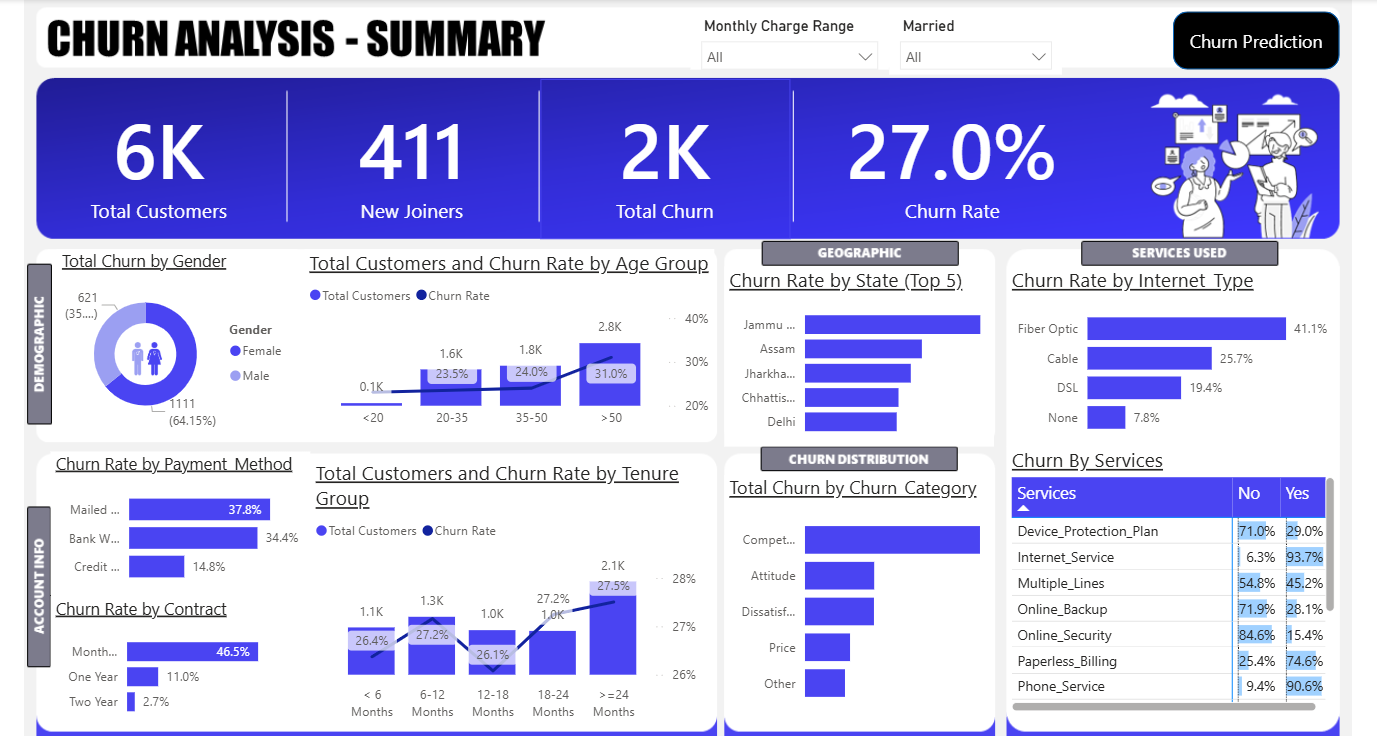

The dashboard page shown, as its layout file describes it:
{"tool":"powerbi","page":{"name":"Summary","canvas":[1340,719],"ordinal":0},"visuals":[{"type":"donutChart","fields":{"Category":["prod_Churn.Gender"],"Y":["tbl_Measures.Total Churn"]},"box":[62,240.9,232.3,181.2],"z":0},{"type":"image","box":[127.7,324.8,41.4,41.4],"z":1000},{"type":"lineStackedColumnComboChart","fields":{"Category":["Mapping_AgeGrp.Age Group"],"Y":["tbl_Measures.Total Customers"],"Y2":["tbl_Measures.Churn Rate"]},"box":[300.5,240.9,395.3,181.2],"z":2000},{"type":"clusteredBarChart","fields":{"Category":["prod_Churn.Payment_Method"],"Y":["tbl_Measures.Churn Rate"]},"box":[56,436.7,250.6,138.7],"z":3000},{"type":"clusteredBarChart","fields":{"Category":["prod_Churn.Contract"],"Y":["tbl_Measures.Churn Rate"]},"box":[56,575.4,244.5,126.5],"z":4000},{"type":"lineStackedColumnComboChart","fields":{"Category":["Mapping_TenureGrp.Tenure Group"],"Y":["tbl_Measures.Total Customers"],"Y2":["tbl_Measures.Churn Rate"]},"box":[306.5,442.8,377.1,259.1],"z":5000},{"type":"clusteredBarChart","title":"Churn Rate by State (Top 5)","fields":{"Category":["prod_Churn.State"],"Y":["tbl_Measures.Churn Rate"]},"box":[704.3,257.9,260.3,173.9],"z":6000},{"type":"clusteredBarChart","fields":{"Category":["prod_Churn.Churn_Category"],"Y":["tbl_Measures.Total Churn"]},"box":[704.3,458.6,260.3,233.6],"z":7000},{"type":"clusteredBarChart","fields":{"Category":["prod_Churn.Internet_Type"],"Y":["tbl_Measures.Churn Rate"]},"box":[976.8,257.9,321.1,173.9],"z":8000},{"type":"pivotTable","title":"Churn  By Services","fields":{"Rows":["prod_Services.Services"],"Columns":["prod_Services.Status"],"Values":["Sum(prod_Services.Churn Status)"]},"box":[976.8,431.8,321.1,260.3],"z":9000},{"type":"slicer","fields":{"Values":["prod_Services.Monthly Charge Status"]},"box":[672.7,12.2,191,56],"z":10000},{"type":"slicer","fields":{"Values":["prod_Services.Married"]},"box":[863.7,12.2,166.6,60.8],"z":11000},{"type":"cardVisual","fields":{"Data":["tbl_Measures.New Joiners"]},"box":[281,76.6,246.9,154.5],"z":12000},{"type":"cardVisual","fields":{"Data":["tbl_Measures.Total Churn"]},"box":[527.9,76.6,240.9,154.5],"z":13000},{"type":"cardVisual","fields":{"Data":["tbl_Measures.Churn Rate"]},"box":[787,76.6,276.1,154.5],"z":14000},{"type":"cardVisual","fields":{"Data":["tbl_Measures.Total Customers"]},"box":[40.1,76.6,240.9,154.5],"z":15000},{"type":"shape","box":[1137.4,12.2,160.6,56],"z":15001}]}

Visuals, with their boxes in screenshot pixels (x1, y1, x2, y2), scaled from the page's 1340x719 canvas onto the 1377x736 screenshot:
donutChart - prod_Churn.Gender x tbl_Measures.Total Churn: bbox(64, 247, 302, 432)
image: bbox(131, 332, 174, 375)
lineStackedColumnComboChart - Mapping_AgeGrp.Age Group x tbl_Measures.Total Customers: bbox(309, 247, 715, 432)
clusteredBarChart - prod_Churn.Payment_Method x tbl_Measures.Churn Rate: bbox(58, 447, 315, 589)
clusteredBarChart - prod_Churn.Contract x tbl_Measures.Churn Rate: bbox(58, 589, 309, 718)
lineStackedColumnComboChart - Mapping_TenureGrp.Tenure Group x tbl_Measures.Total Customers: bbox(315, 453, 702, 718)
"Churn Rate by State (Top 5)" clusteredBarChart: bbox(724, 264, 991, 442)
clusteredBarChart - prod_Churn.Churn_Category x tbl_Measures.Total Churn: bbox(724, 469, 991, 709)
clusteredBarChart - prod_Churn.Internet_Type x tbl_Measures.Churn Rate: bbox(1004, 264, 1334, 442)
"Churn  By Services" pivotTable: bbox(1004, 442, 1334, 708)
slicer - prod_Services.Monthly Charge Status: bbox(691, 12, 888, 70)
slicer - prod_Services.Married: bbox(888, 12, 1059, 75)
cardVisual - tbl_Measures.New Joiners: bbox(289, 78, 542, 237)
cardVisual - tbl_Measures.Total Churn: bbox(542, 78, 790, 237)
cardVisual - tbl_Measures.Churn Rate: bbox(809, 78, 1092, 237)
cardVisual - tbl_Measures.Total Customers: bbox(41, 78, 289, 237)
shape: bbox(1169, 12, 1334, 70)
